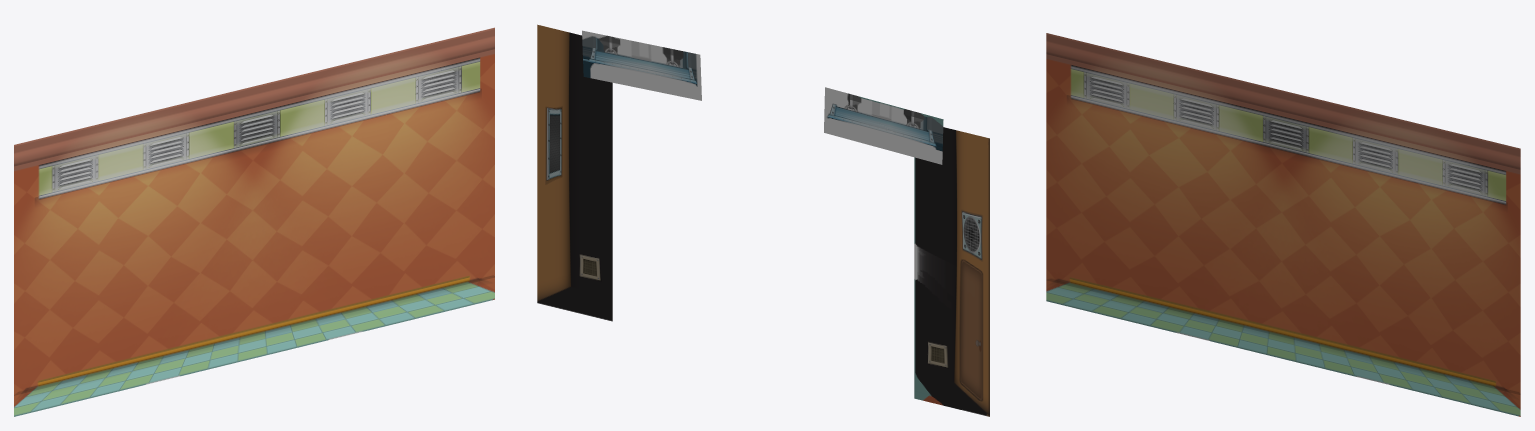
File: pack_1_Back.glb
3 renders of one model, left to right at view 1: azimuth 30°, elevation 25°; view 2: azimuth 150°, elevation 25°; view 3: azimuth 330°, elevation 25°, orthographic. The views are drawn at different scales.
Parts seen in each view (by area): view 1: pack_1_back; view 2: pack_1_p, pack_1_left_p, pack1LampR, pack1LampL; view 3: pack_1_back.
Boxes of the visible parts, x1,y1,x2,y2 form: pack_1_back: (14,27,494,416); pack_1_p: (914,127,989,416); pack_1_left_p: (537,24,612,321); pack1LampR: (824,87,943,164); pack1LampL: (582,30,701,100); pack_1_back: (1046,33,1520,416).
Bounding box in the file's own units: 1126 × 661 × 82.03.
1 material, 1 textured.
